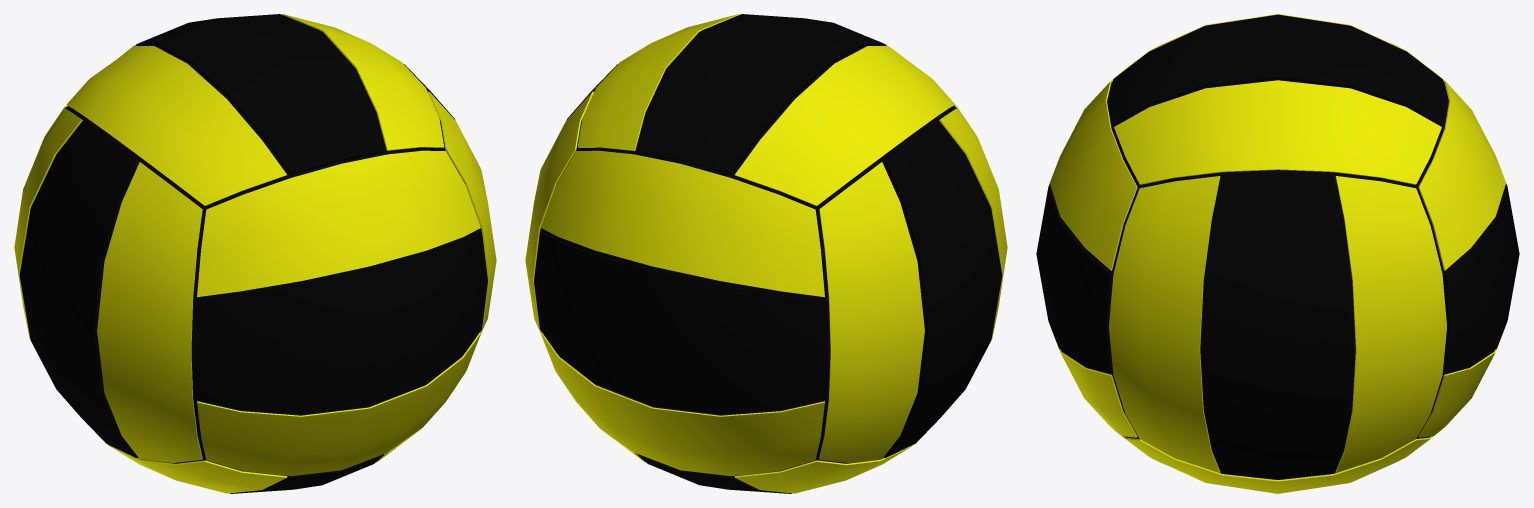
File: Ball.fbx
3 views of the same model, side by side, from view 1: azimuth 30°, elevation 25°; view 2: azimuth 150°, elevation 25°; view 3: azimuth 270°, elevation 25° (orthographic).
Parts seen in each view (by area): view 1: ball; view 2: ball; view 3: ball.
Part boxes in pixels (x1=…): ball: x1=14, y1=14, x2=496, y2=493; ball: x1=525, y1=14, x2=1007, y2=493; ball: x1=1036, y1=14, x2=1519, y2=493.
Bounding box in the file's own units: 12.53 × 12.53 × 12.53.
